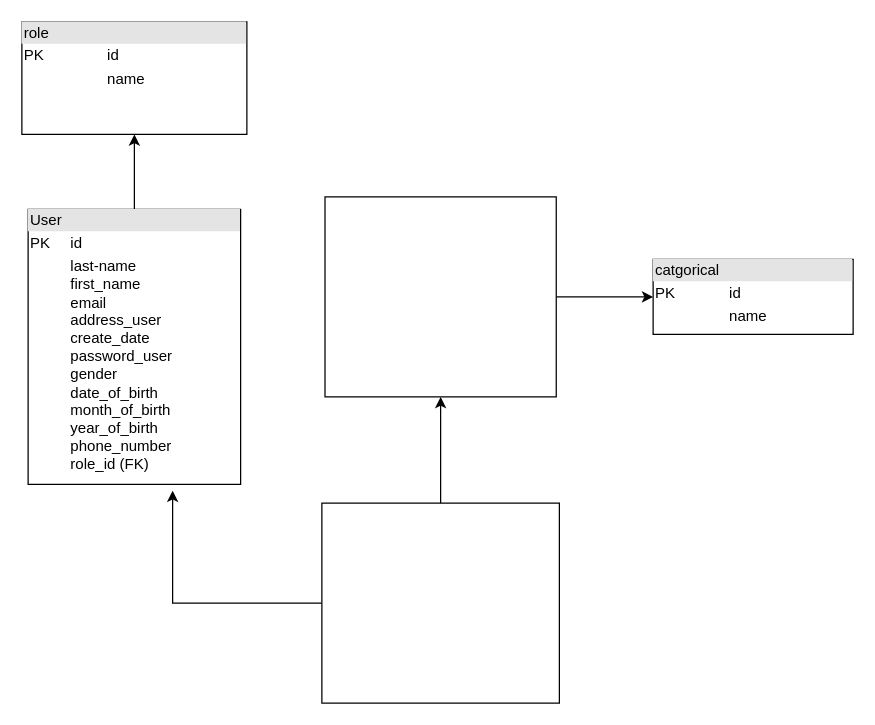
This 875x725 diagram has some shape labels left out. The box of each missing label's shape, as (x1, y1, x2, y2) in pixels:
Poss_mangent PK id FK1 FK2 product_id userpost_id status_pos create_date: (321, 502, 559, 703)
product PK id FK1 catgorical_id name title thumnail description: (324, 196, 556, 397)
